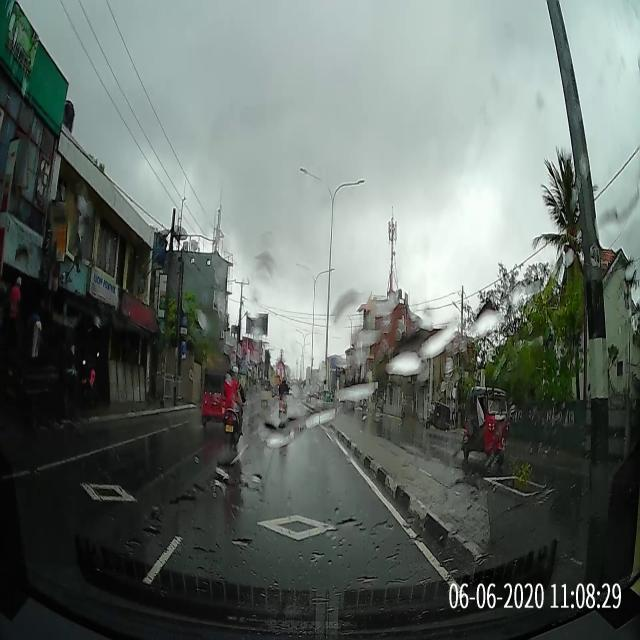diamond: (175, 508, 426, 550)
